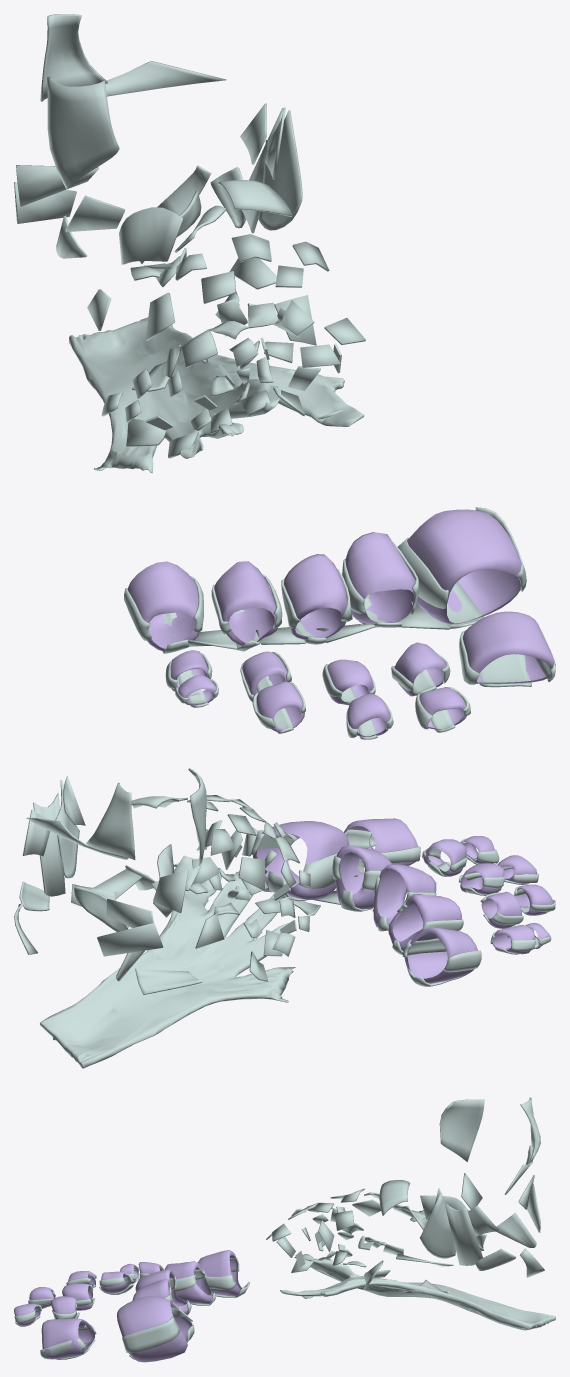
Rendered from joints.glb.
The picture shows the model from 3 angles, top to bottom: view 1: azimuth 30°, elevation 25°; view 2: azimuth 150°, elevation 25°; view 3: azimuth 270°, elevation 25°; orthographic projection. The views are drawn at different scales.
Visible parts, largest first — view 1: Articular capsules of metatarsophalangeal joints.r, Long plantar ligament.r, Anterior tibiofibular ligament.r, Articular capsules of proximal interphalangeal joints of foo, Collateral metatarsophalangeal ligaments.r, Articular capsules of distal interphalangeal joints of foot., Dorsal tarsometatarsal ligaments.r, Articular capsule of interphalangeal joint of great toe.r, Plantar interphalangeal ligaments.r, Collateral interphalangeal ligaments of foot.r, Tibionavicular ligament.r, Posterior tibiofibular ligament.r (+19 smaller); view 2: Long plantar ligament.r, Articular capsules of metatarsophalangeal joints.r, Collateral metatarsophalangeal ligaments.r, Articular capsules of proximal interphalangeal joints of foo, Collateral interphalangeal ligaments of foot.r, Posterior tibiofibular ligament.r, Articular capsules of distal interphalangeal joints of foot., Articular capsule of interphalangeal joint of great toe.r, Dorsal tarsometatarsal ligaments.r, Tibionavicular ligament.r, Tibiocalcaneal ligament.r, Calcaneofibular ligament.r (+24 smaller); view 3: Articular capsules of metatarsophalangeal joints.r, Long plantar ligament.r, Collateral metatarsophalangeal ligaments.r, Anterior tibiofibular ligament.r, Articular capsule of interphalangeal joint of great toe.r, Collateral interphalangeal ligaments of foot.r, Articular capsules of proximal interphalangeal joints of foo, Tibionavicular ligament.r, Tibiocalcaneal ligament.r, Articular capsules of distal interphalangeal joints of foot., Talonavicular ligament.r, Lateral talocalcaneal ligament.r (+14 smaller).
Boxes of the visible parts, x1,y1,x2,y2 form: Articular capsules of metatarsophalangeal joints.r: (127, 509, 521, 651); Long plantar ligament.r: (69, 317, 364, 473); Anterior tibiofibular ligament.r: (47, 76, 119, 188); Articular capsules of proximal interphalangeal joints of foo: (170, 642, 446, 704); Collateral metatarsophalangeal ligaments.r: (124, 507, 526, 640); Articular capsules of distal interphalangeal joints of foot.: (178, 675, 466, 736); Dorsal tarsometatarsal ligaments.r: (101, 300, 365, 416); Articular capsule of interphalangeal joint of great toe.r: (463, 611, 555, 684); Plantar interphalangeal ligaments.r: (178, 654, 531, 739); Collateral interphalangeal ligaments of foot.r: (165, 630, 555, 737); Tibionavicular ligament.r: (257, 107, 302, 230); Posterior tibiofibular ligament.r: (40, 14, 107, 101); Long plantar ligament.r: (40, 871, 295, 1068); Articular capsules of metatarsophalangeal joints.r: (253, 821, 478, 983); Collateral metatarsophalangeal ligaments.r: (251, 830, 481, 972); Articular capsules of proximal interphalangeal joints of foo: (423, 839, 534, 954); Collateral interphalangeal ligaments of foot.r: (344, 829, 555, 950); Posterior tibiofibular ligament.r: (86, 782, 135, 859); Articular capsules of distal interphalangeal joints of foot.: (463, 836, 553, 948); Articular capsule of interphalangeal joint of great toe.r: (344, 818, 418, 865); Dorsal tarsometatarsal ligaments.r: (226, 799, 299, 956); Tibionavicular ligament.r: (55, 776, 85, 878); Tibiocalcaneal ligament.r: (33, 793, 65, 896); Calcaneofibular ligament.r: (97, 923, 163, 956); Articular capsules of metatarsophalangeal joints.r: (117, 1250, 241, 1362); Long plantar ligament.r: (280, 1254, 555, 1330); Collateral metatarsophalangeal ligaments.r: (122, 1258, 239, 1353); Anterior tibiofibular ligament.r: (439, 1099, 484, 1161); Articular capsule of interphalangeal joint of great toe.r: (41, 1318, 94, 1359); Collateral interphalangeal ligaments of foot.r: (14, 1266, 164, 1359); Articular capsules of proximal interphalangeal joints of foo: (51, 1262, 161, 1318); Tibionavicular ligament.r: (419, 1188, 455, 1258); Tibiocalcaneal ligament.r: (444, 1202, 483, 1265); Articular capsules of distal interphalangeal joints of foot.: (14, 1263, 138, 1325); Talonavicular ligament.r: (379, 1180, 410, 1215); Lateral talocalcaneal ligament.r: (496, 1212, 536, 1247).
Size of the model in its own units: 0.0964 by 0.0952 by 0.196.
